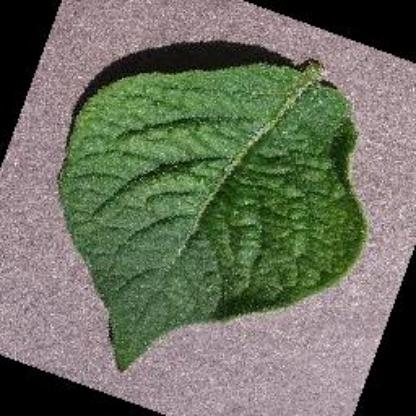Healthy-plant: (52, 54, 369, 368)
